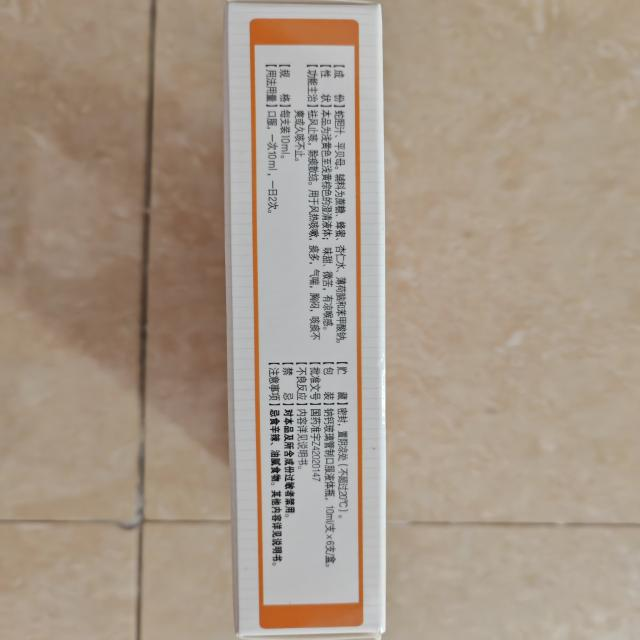box: (216, 2, 392, 639)
